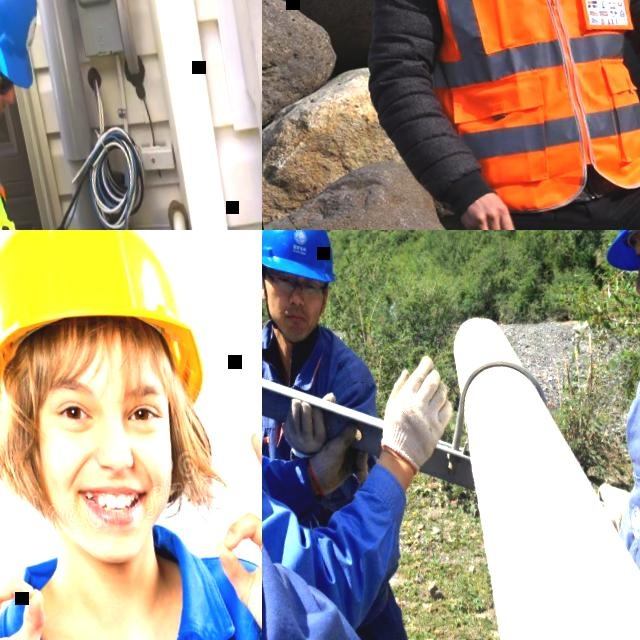Hardhat: (0, 230, 211, 433), (262, 230, 336, 295)
NO-Mask: (52, 464, 179, 568), (269, 297, 322, 346), (0, 83, 9, 145)
NO-Safety Vest: (262, 315, 402, 622), (0, 534, 262, 640)
Person: (0, 230, 262, 640), (262, 230, 487, 640), (305, 0, 640, 230), (262, 230, 428, 640), (532, 230, 640, 640), (262, 342, 379, 640), (0, 0, 120, 230)
Safety Vest: (371, 0, 640, 225), (0, 10, 60, 230)
